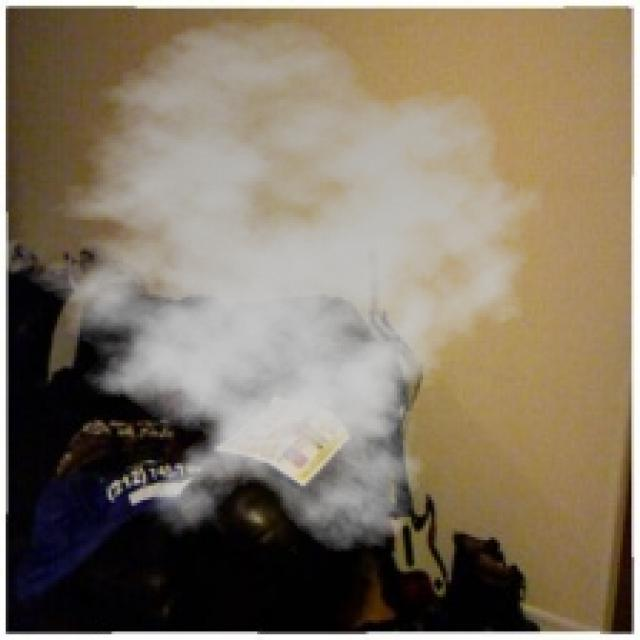smoke: (3, 17, 557, 554)
